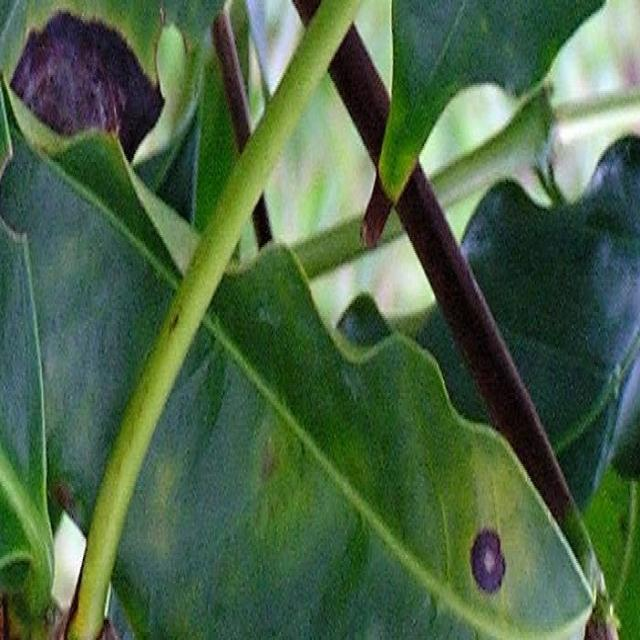Enfermedad-Mancha-de-hierro: (100, 249, 594, 640)
